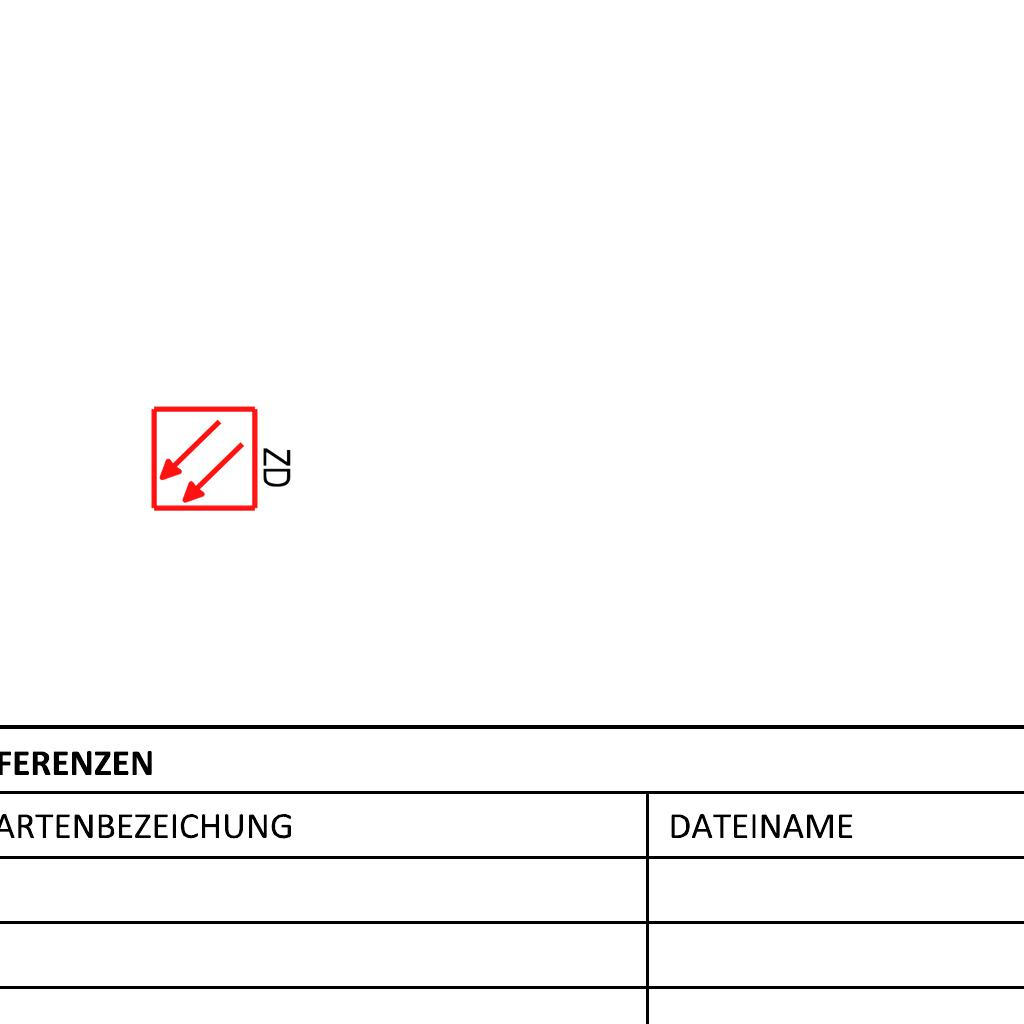ZD_Melder_in_Zwischendecke_mit_Revisionsoeffnung_mind_40_x_40_cm: (149, 400, 298, 514)
